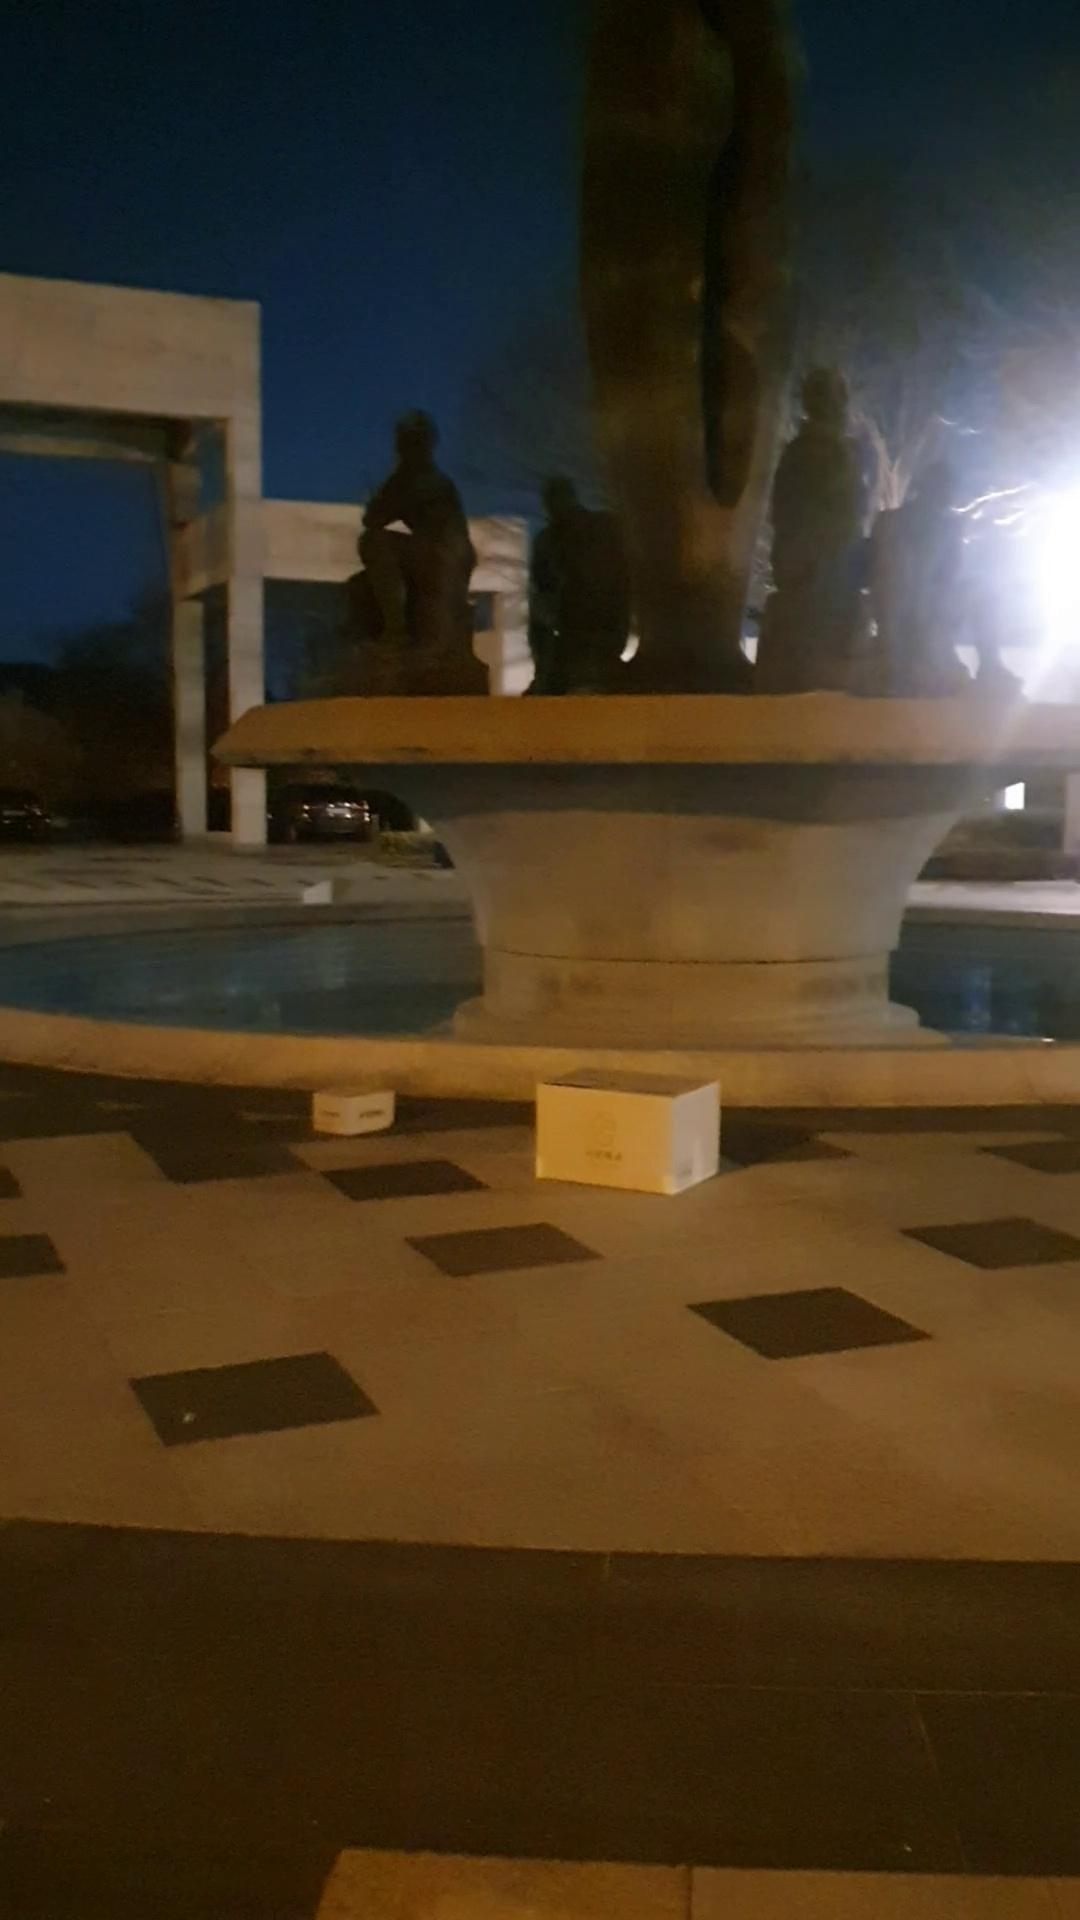Box: (524, 1058, 727, 1197), (298, 1065, 405, 1142)
